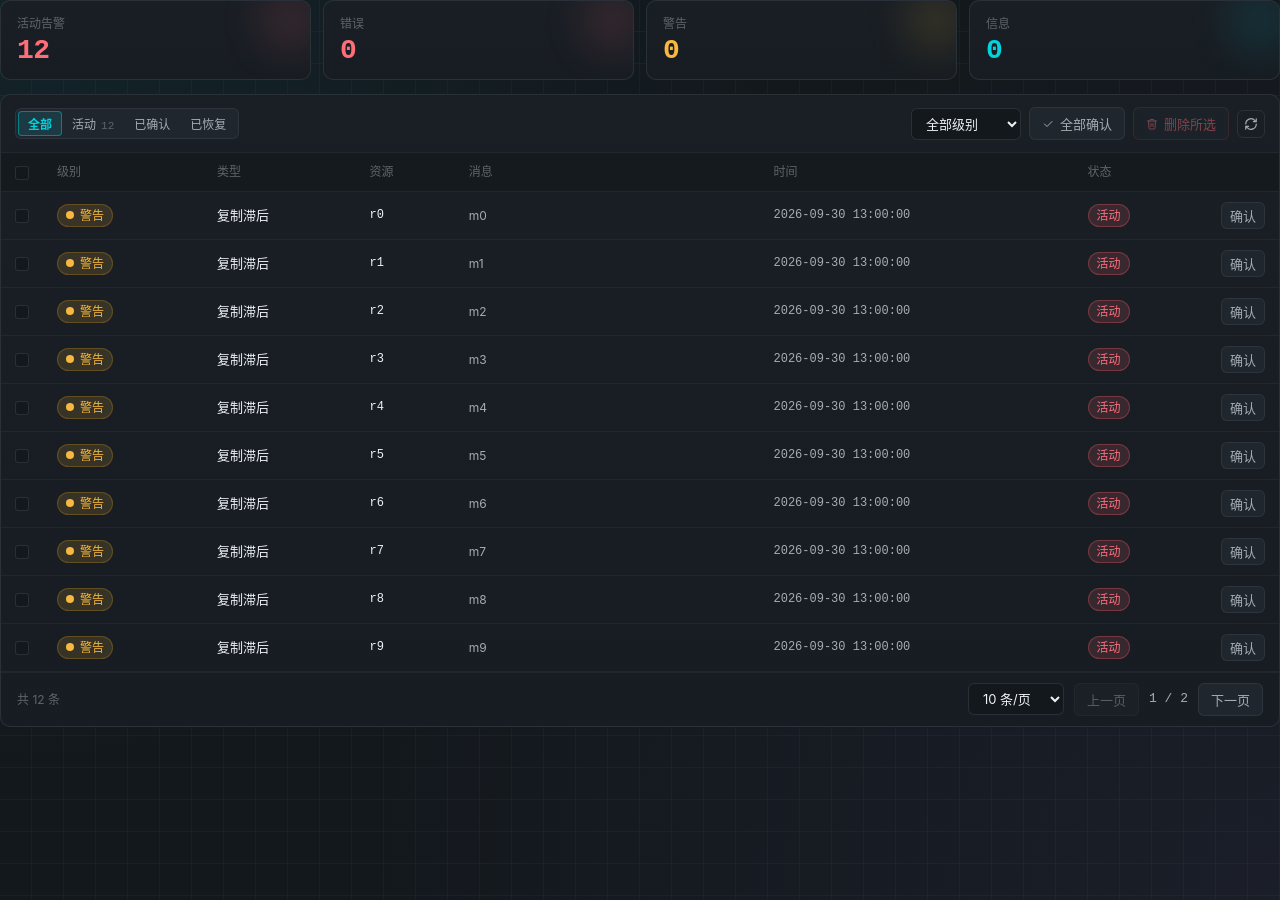
Test case: 告警中心 › 默认每页 10 条，能翻页
The image size is (1280, 900).
Expected: the text "共 12 条" is shown, 17,691 -> 60,708
Step 1. Click the button "下一页" → (1230, 699), box 1198,683 -> 1263,716
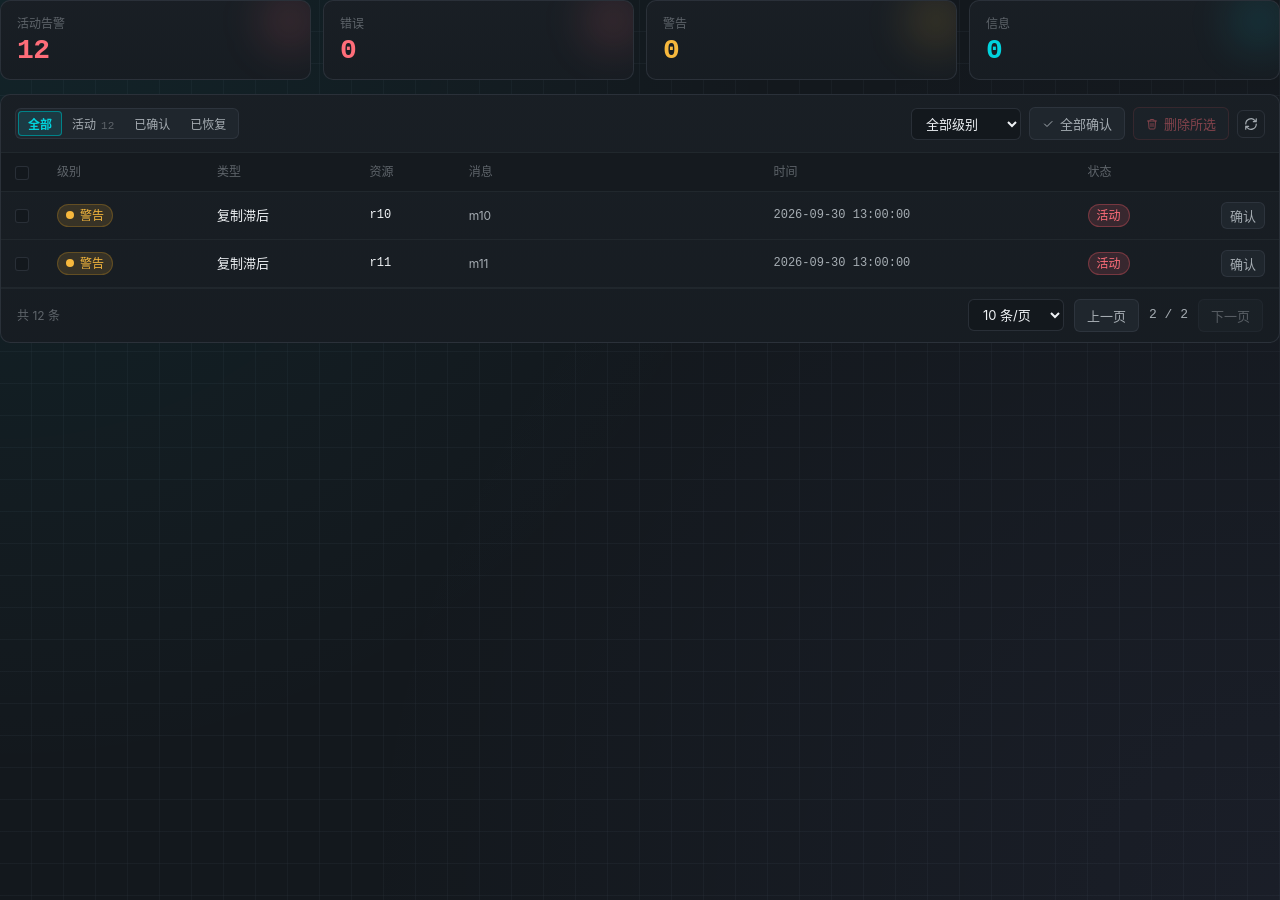
Result: the text "m10" is shown at 469,208 -> 491,223
